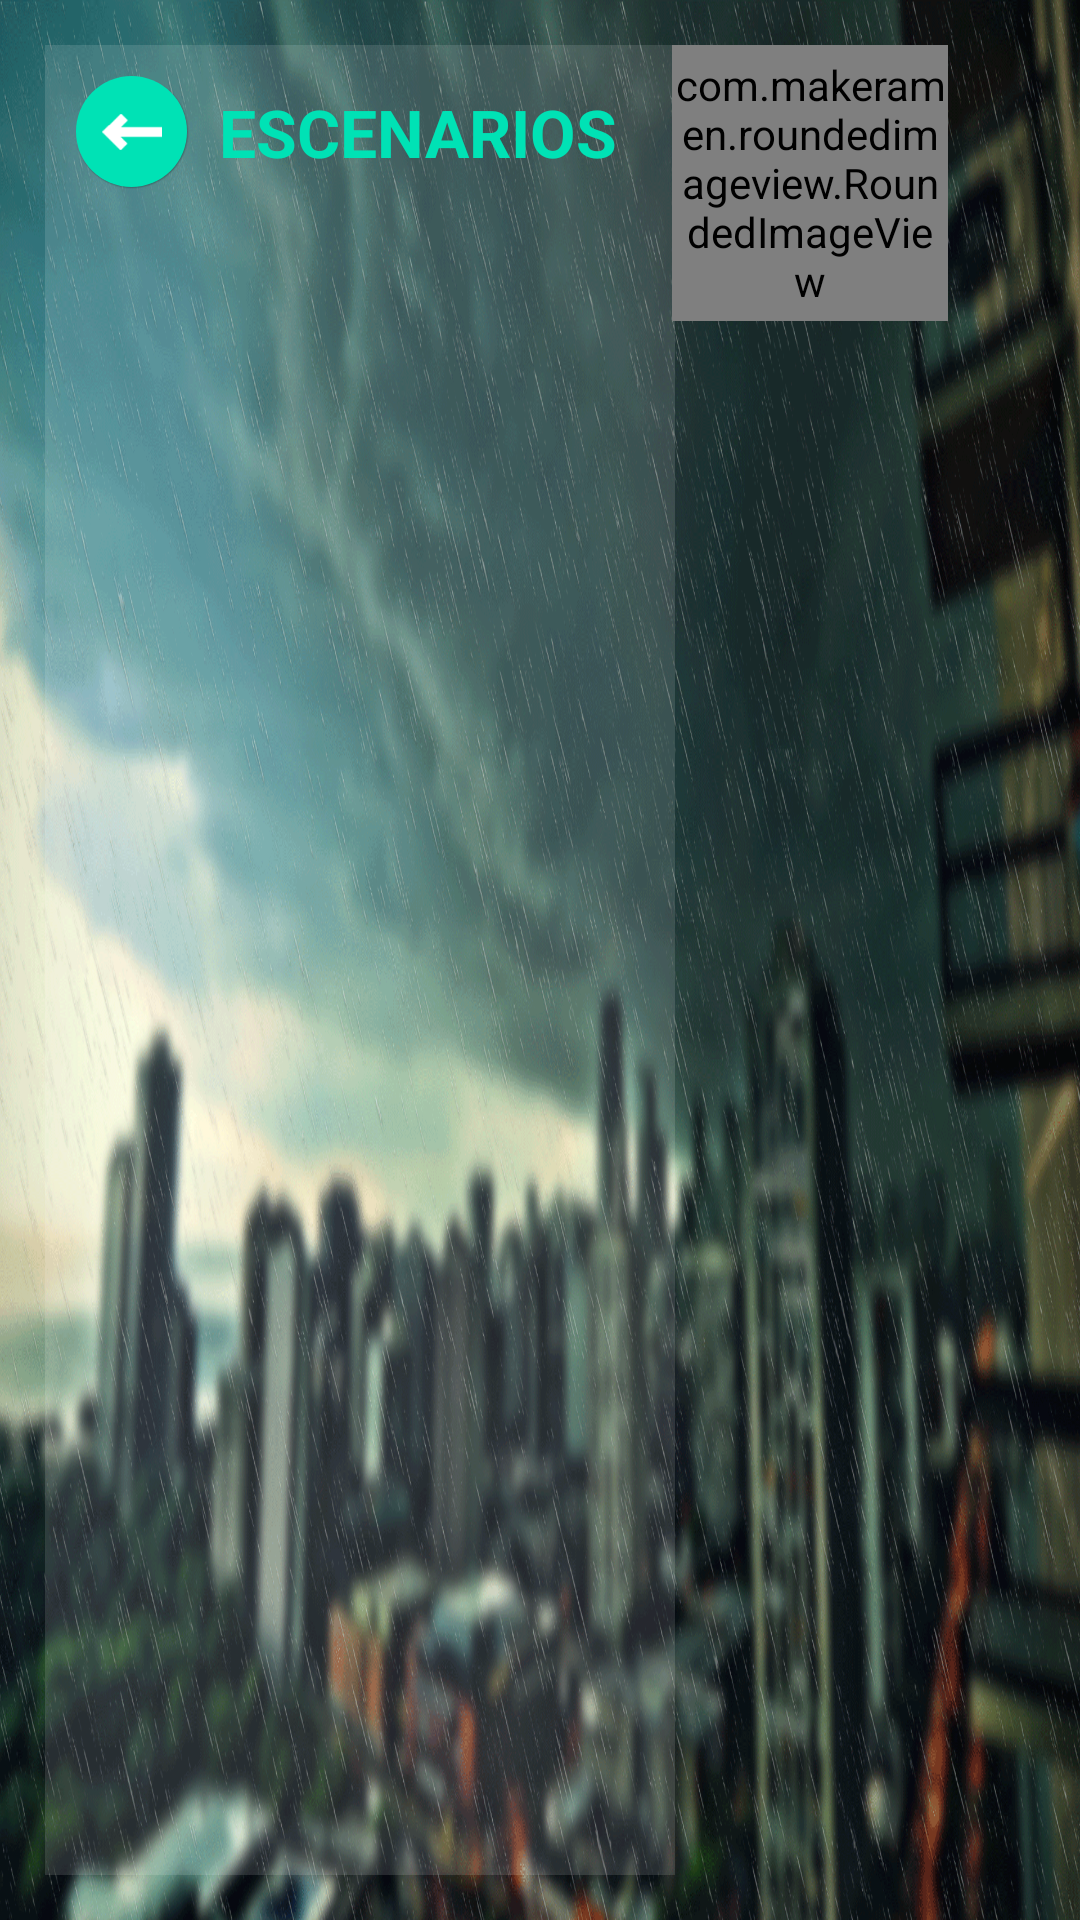

Named icons in this screenshot (1080x1920) and their centers, [x,y]:
back arrow: [132,132]
